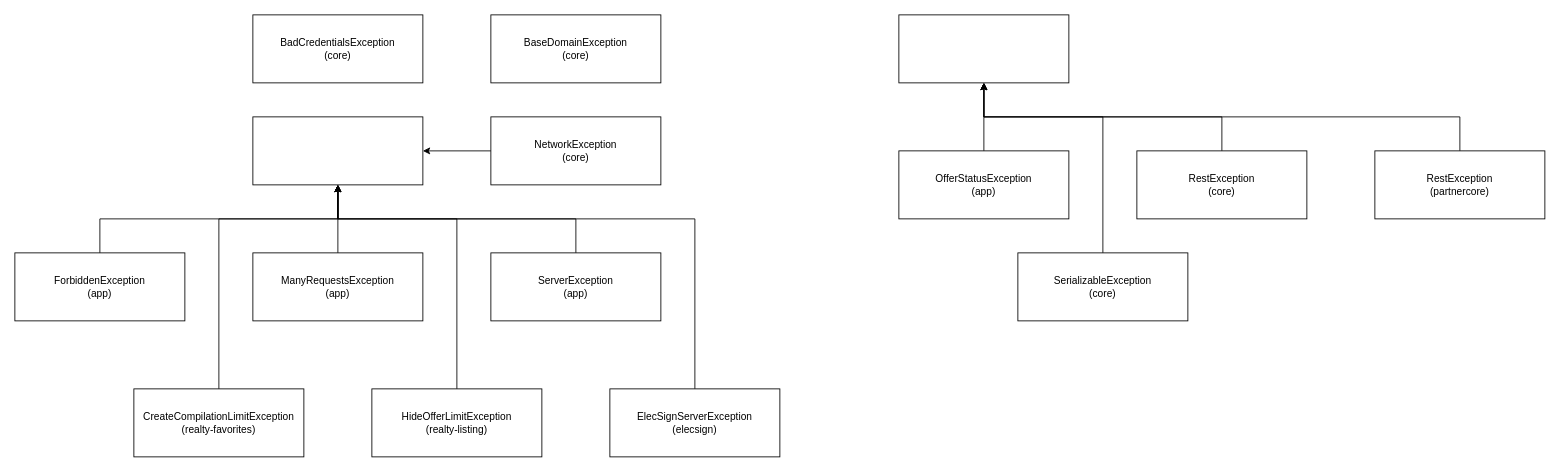
This 1560x472 diagram has some shape labels left out. Each missing label, with the centre of its shape:
BaseApiException (core): the point at 337,150
BaseRestException (core): the point at 983,48
